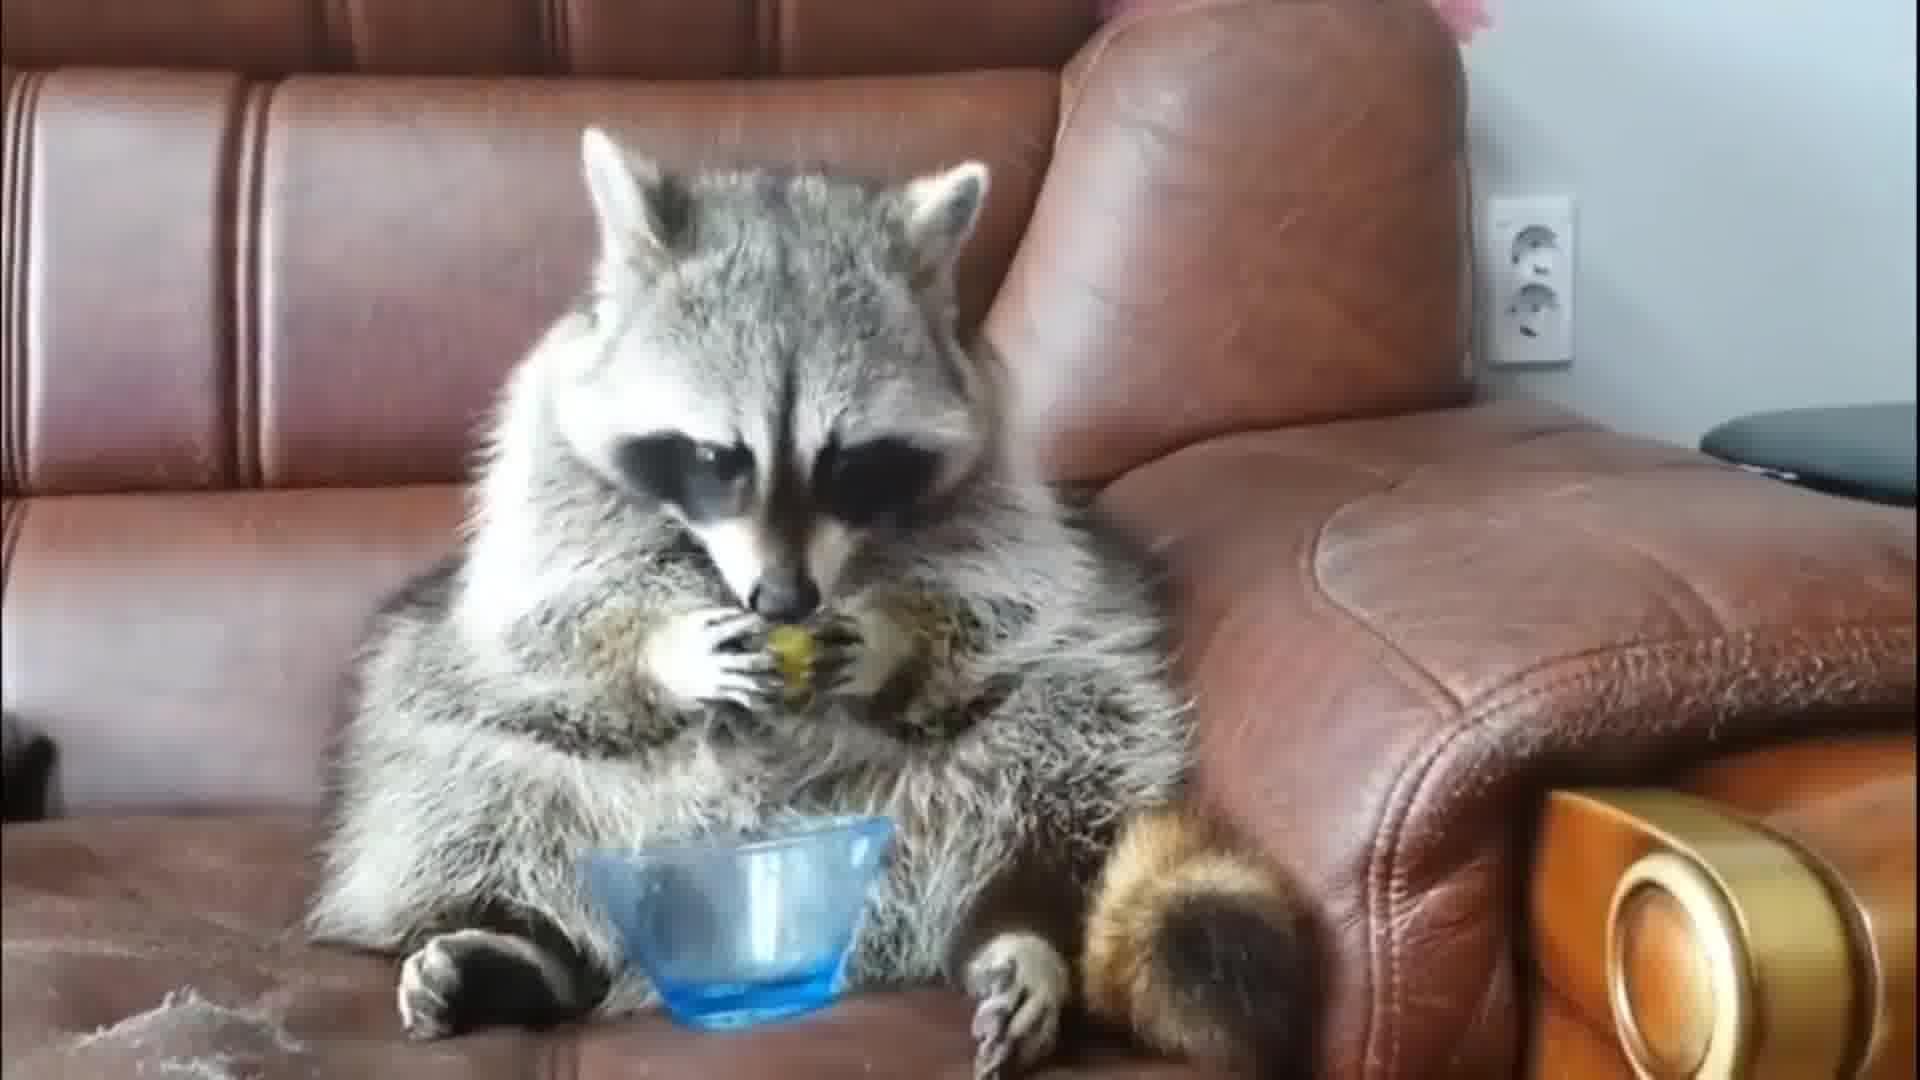raccoon: (296, 116, 1325, 1080)
